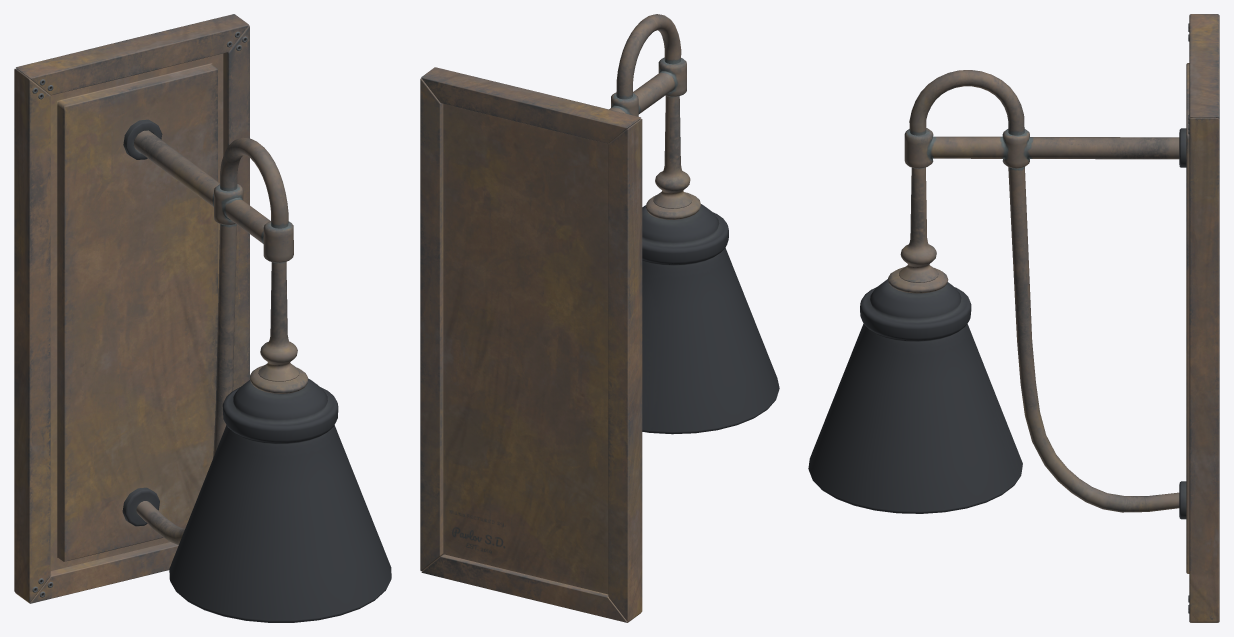
Rendered from industrial_wall_sconce_2k.fbx.
3 renders of one model, left to right at view 1: azimuth 30°, elevation 25°; view 2: azimuth 150°, elevation 25°; view 3: azimuth 270°, elevation 25°, orthographic. The views are drawn at different scales.
Parts seen in each view (by area): view 1: industrial_wall_sconce; view 2: industrial_wall_sconce; view 3: industrial_wall_sconce.
Part boxes in pixels (<box>): industrial_wall_sconce: <box>14,14,391,622</box>; industrial_wall_sconce: <box>420,14,779,622</box>; industrial_wall_sconce: <box>808,14,1219,622</box>.
Size of the model in its own units: 15.03 by 34.18 by 25.16.
Materials: 2 (2 with a texture image).
